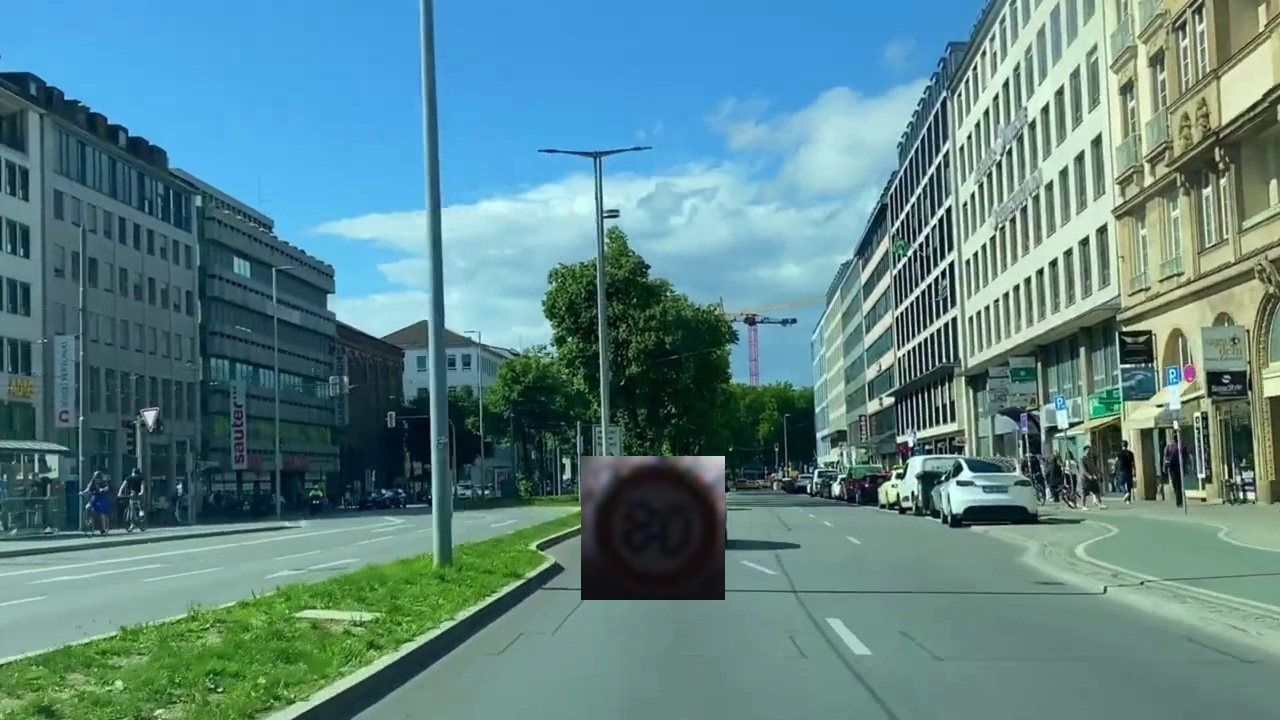Speed 80: (581, 456, 725, 600)
